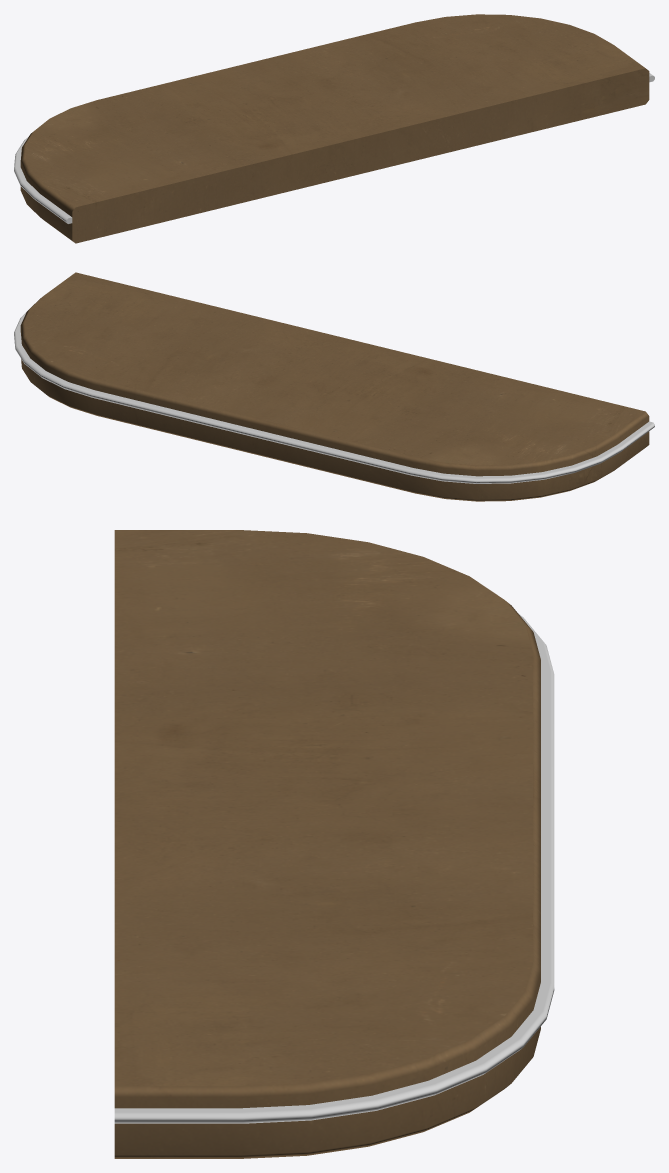
The model's file is SM_Building01Canopy02R.fbx.
3 renders of one model, top to bottom at view 1: azimuth 30°, elevation 25°; view 2: azimuth 150°, elevation 25°; view 3: azimuth 270°, elevation 25°, orthographic. The views are drawn at different scales.
Parts seen in each view (by area): view 1: SM_Building01Canopy02R_LOD0; view 2: SM_Building01Canopy02R_LOD0; view 3: SM_Building01Canopy02R_LOD0.
Boxes of the visible parts, x1=… form: SM_Building01Canopy02R_LOD0: x1=14, y1=14, x2=654, y2=243; SM_Building01Canopy02R_LOD0: x1=14, y1=272, x2=654, y2=501; SM_Building01Canopy02R_LOD0: x1=114, y1=530, x2=554, y2=1158.
Size of the model in its own units: 255 by 82.5 by 15.
2 materials, 1 textured.
